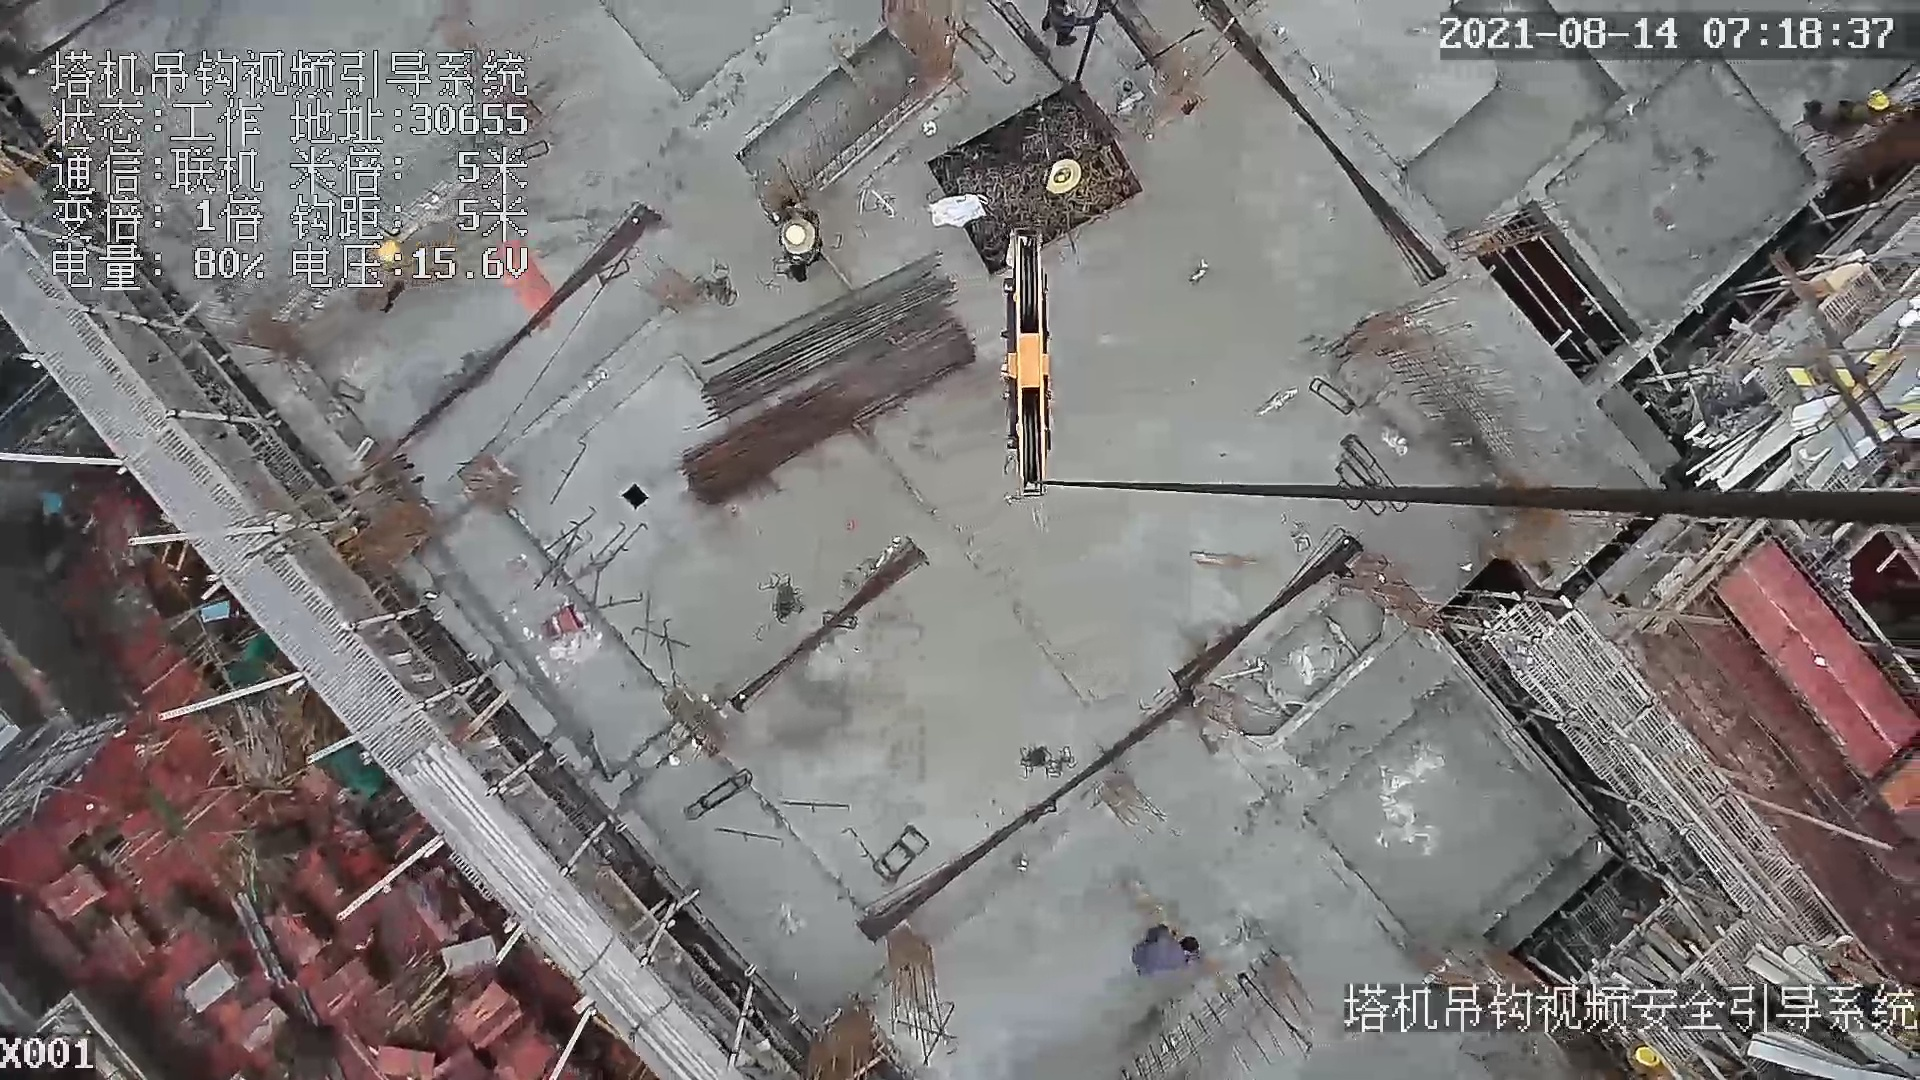helmet: (785, 222, 811, 256)
hook: (981, 222, 1062, 499)
person: (1114, 919, 1201, 976), (778, 204, 828, 282)
